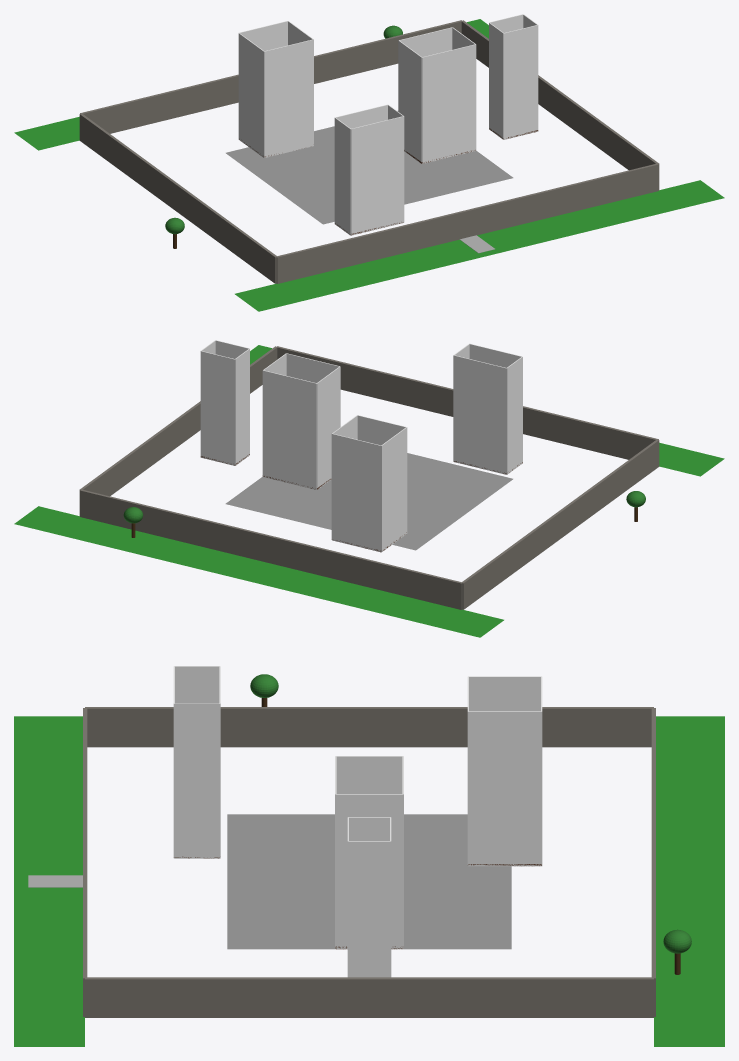
File: enhanced_boq_418e5675-2b2d-4468-a28b-bc72f42fdd79.obj
3 views of the same model, one above another, from view 1: azimuth 30°, elevation 25°; view 2: azimuth 150°, elevation 25°; view 3: azimuth 270°, elevation 25° (orthographic). The views are drawn at different scales.
Parts seen in each view (by area): view 1: ExteriorWall_South, FrontYard, Foundation, ExteriorWall_North, ExteriorWall_West, SouthWall_Living_Room, SouthWall_Kitchen, SouthWall_Master_Bedroom, ExteriorWall_East, SouthWall_Bathroom, WestWall_Master_Bedroom, WestWall_Living_Room (+6 smaller); view 2: BackYard, ExteriorWall_North, Foundation, ExteriorWall_South, ExteriorWall_West, NorthWall_Living_Room, NorthWall_Kitchen, NorthWall_Master_Bedroom, ExteriorWall_East, NorthWall_Bathroom, WestWall_Master_Bedroom, WestWall_Living_Room (+6 smaller); view 3: Foundation, ExteriorWall_East, FrontYard, BackYard, ExteriorWall_West, EastWall_Master_Bedroom, EastWall_Kitchen, EastWall_Bathroom, EastWall_Living_Room, WestWall_Master_Bedroom, WestWall_Living_Room, WestWall_Kitchen (+4 smaller).
Part boxes in pixels (bbox=[...]): ExteriorWall_South: bbox=[276, 164, 658, 283]; FrontYard: bbox=[235, 180, 724, 311]; Foundation: bbox=[226, 111, 513, 224]; ExteriorWall_North: bbox=[80, 20, 462, 133]; ExteriorWall_West: bbox=[79, 113, 277, 283]; SouthWall_Living_Room: bbox=[422, 44, 475, 163]; SouthWall_Kitchen: bbox=[351, 116, 403, 235]; SouthWall_Master_Bedroom: bbox=[264, 39, 313, 157]; ExteriorWall_East: bbox=[461, 20, 659, 189]; SouthWall_Bathroom: bbox=[504, 25, 538, 139]; WestWall_Master_Bedroom: bbox=[238, 33, 264, 157]; WestWall_Living_Room: bbox=[398, 40, 421, 163]; BackYard: bbox=[14, 506, 503, 637]; ExteriorWall_North: bbox=[80, 489, 462, 609]; Foundation: bbox=[225, 453, 512, 550]; ExteriorWall_South: bbox=[276, 346, 658, 459]; ExteriorWall_West: bbox=[461, 439, 659, 609]; NorthWall_Living_Room: bbox=[263, 370, 316, 489]; NorthWall_Kitchen: bbox=[453, 355, 506, 474]; NorthWall_Master_Bedroom: bbox=[332, 433, 381, 551]; ExteriorWall_East: bbox=[79, 346, 277, 515]; NorthWall_Bathroom: bbox=[200, 351, 234, 465]; WestWall_Master_Bedroom: bbox=[381, 427, 407, 551]; WestWall_Living_Room: bbox=[317, 366, 340, 489]; Foundation: bbox=[227, 814, 511, 949]; ExteriorWall_East: bbox=[85, 977, 653, 1017]; FrontYard: bbox=[14, 716, 84, 1046]; BackYard: bbox=[654, 716, 724, 1046]; ExteriorWall_West: bbox=[85, 707, 653, 747]; EastWall_Master_Bedroom: bbox=[468, 711, 541, 866]; EastWall_Kitchen: bbox=[174, 703, 219, 858]; EastWall_Bathroom: bbox=[348, 841, 390, 977]; EastWall_Living_Room: bbox=[335, 794, 403, 949]; WestWall_Master_Bedroom: bbox=[468, 676, 541, 711]; WestWall_Living_Room: bbox=[336, 756, 402, 793]; WestWall_Kitchen: bbox=[174, 666, 219, 703].
Size of the model in its own units: 55.7 by 12 by 50.
